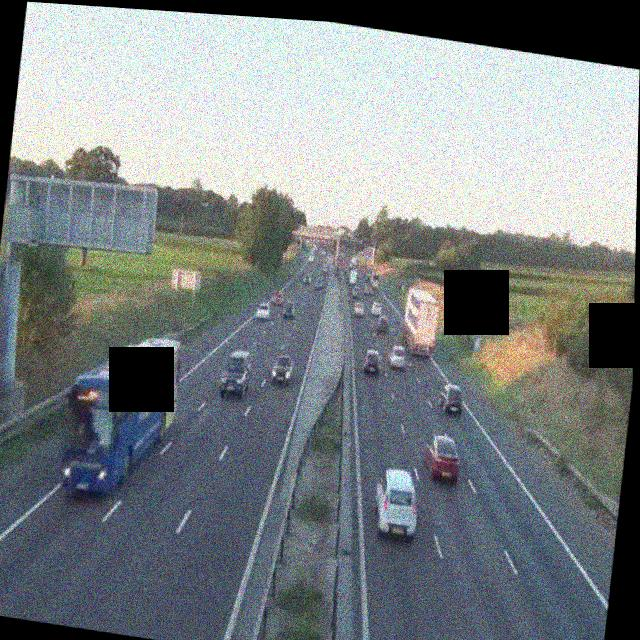bus: (57, 321, 184, 506)
car: (372, 465, 422, 540), (421, 432, 462, 486), (218, 347, 253, 399), (437, 381, 465, 416), (269, 351, 294, 387), (362, 349, 383, 374), (386, 346, 407, 369), (254, 300, 271, 321), (281, 298, 295, 320), (375, 313, 389, 333), (271, 290, 284, 307), (353, 300, 365, 318), (371, 301, 381, 316), (315, 275, 324, 291), (351, 285, 360, 299), (300, 271, 309, 284), (320, 261, 328, 272)
truck: (400, 284, 442, 357), (347, 266, 358, 285)
